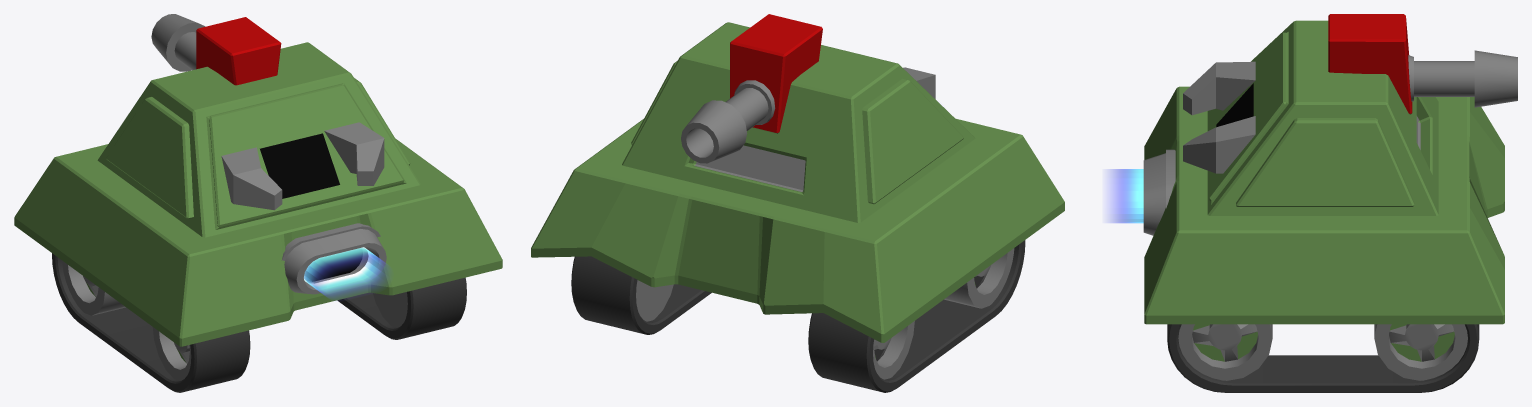
Rendered from tank-02.glb.
3 views of the same model, side by side, from view 1: azimuth 30°, elevation 25°; view 2: azimuth 150°, elevation 25°; view 3: azimuth 270°, elevation 25° (orthographic). The views are drawn at different scales.
Parts seen in each view (by area): view 1: Body, Weapon-Mine, Tracks-R, Cylinder, Tracks-L, boost-fire, Weapon-Cannon, Wheel-FL, Wheel-BL, Wheel-FR; view 2: Body, Tracks-R, Tracks-L, Weapon-Cannon, Wheel-BL, Wheel-FL, Wheel-BR; view 3: Body, Tracks-L, Weapon-Mine, Weapon-Cannon, Wheel-FR, Wheel-BR, Cylinder, boost-fire.
Part boxes in pixels (bbox=[...]): Body: bbox=[14, 17, 502, 346]; Weapon-Mine: bbox=[221, 122, 384, 210]; Tracks-R: bbox=[52, 253, 250, 392]; Cylinder: bbox=[281, 223, 386, 294]; Tracks-L: bbox=[337, 277, 466, 339]; boost-fire: bbox=[304, 247, 389, 298]; Weapon-Cannon: bbox=[151, 14, 205, 71]; Wheel-FL: bbox=[62, 260, 125, 315]; Wheel-BL: bbox=[152, 327, 191, 380]; Wheel-FR: bbox=[373, 292, 407, 327]; Body: bbox=[531, 14, 1064, 342]; Tracks-R: bbox=[808, 240, 1025, 392]; Tracks-L: bbox=[571, 256, 711, 334]; Weapon-Cannon: bbox=[681, 80, 775, 163]; Wheel-BL: bbox=[944, 248, 1014, 308]; Wheel-FL: bbox=[873, 321, 914, 379]; Wheel-BR: bbox=[636, 280, 673, 321]; Body: bbox=[1144, 14, 1504, 324]; Tracks-L: bbox=[1167, 324, 1479, 392]; Weapon-Mine: bbox=[1183, 61, 1255, 173]; Weapon-Cannon: bbox=[1408, 50, 1517, 107]; Wheel-FR: bbox=[1178, 324, 1272, 380]; Wheel-BR: bbox=[1374, 324, 1467, 380]; Cylinder: bbox=[1143, 149, 1175, 235]; boost-fire: bbox=[1106, 169, 1143, 223].
Bounding box in the file's own units: 4.15 × 3.36 × 4.38.
Materials: 7 (1 with a texture image).
